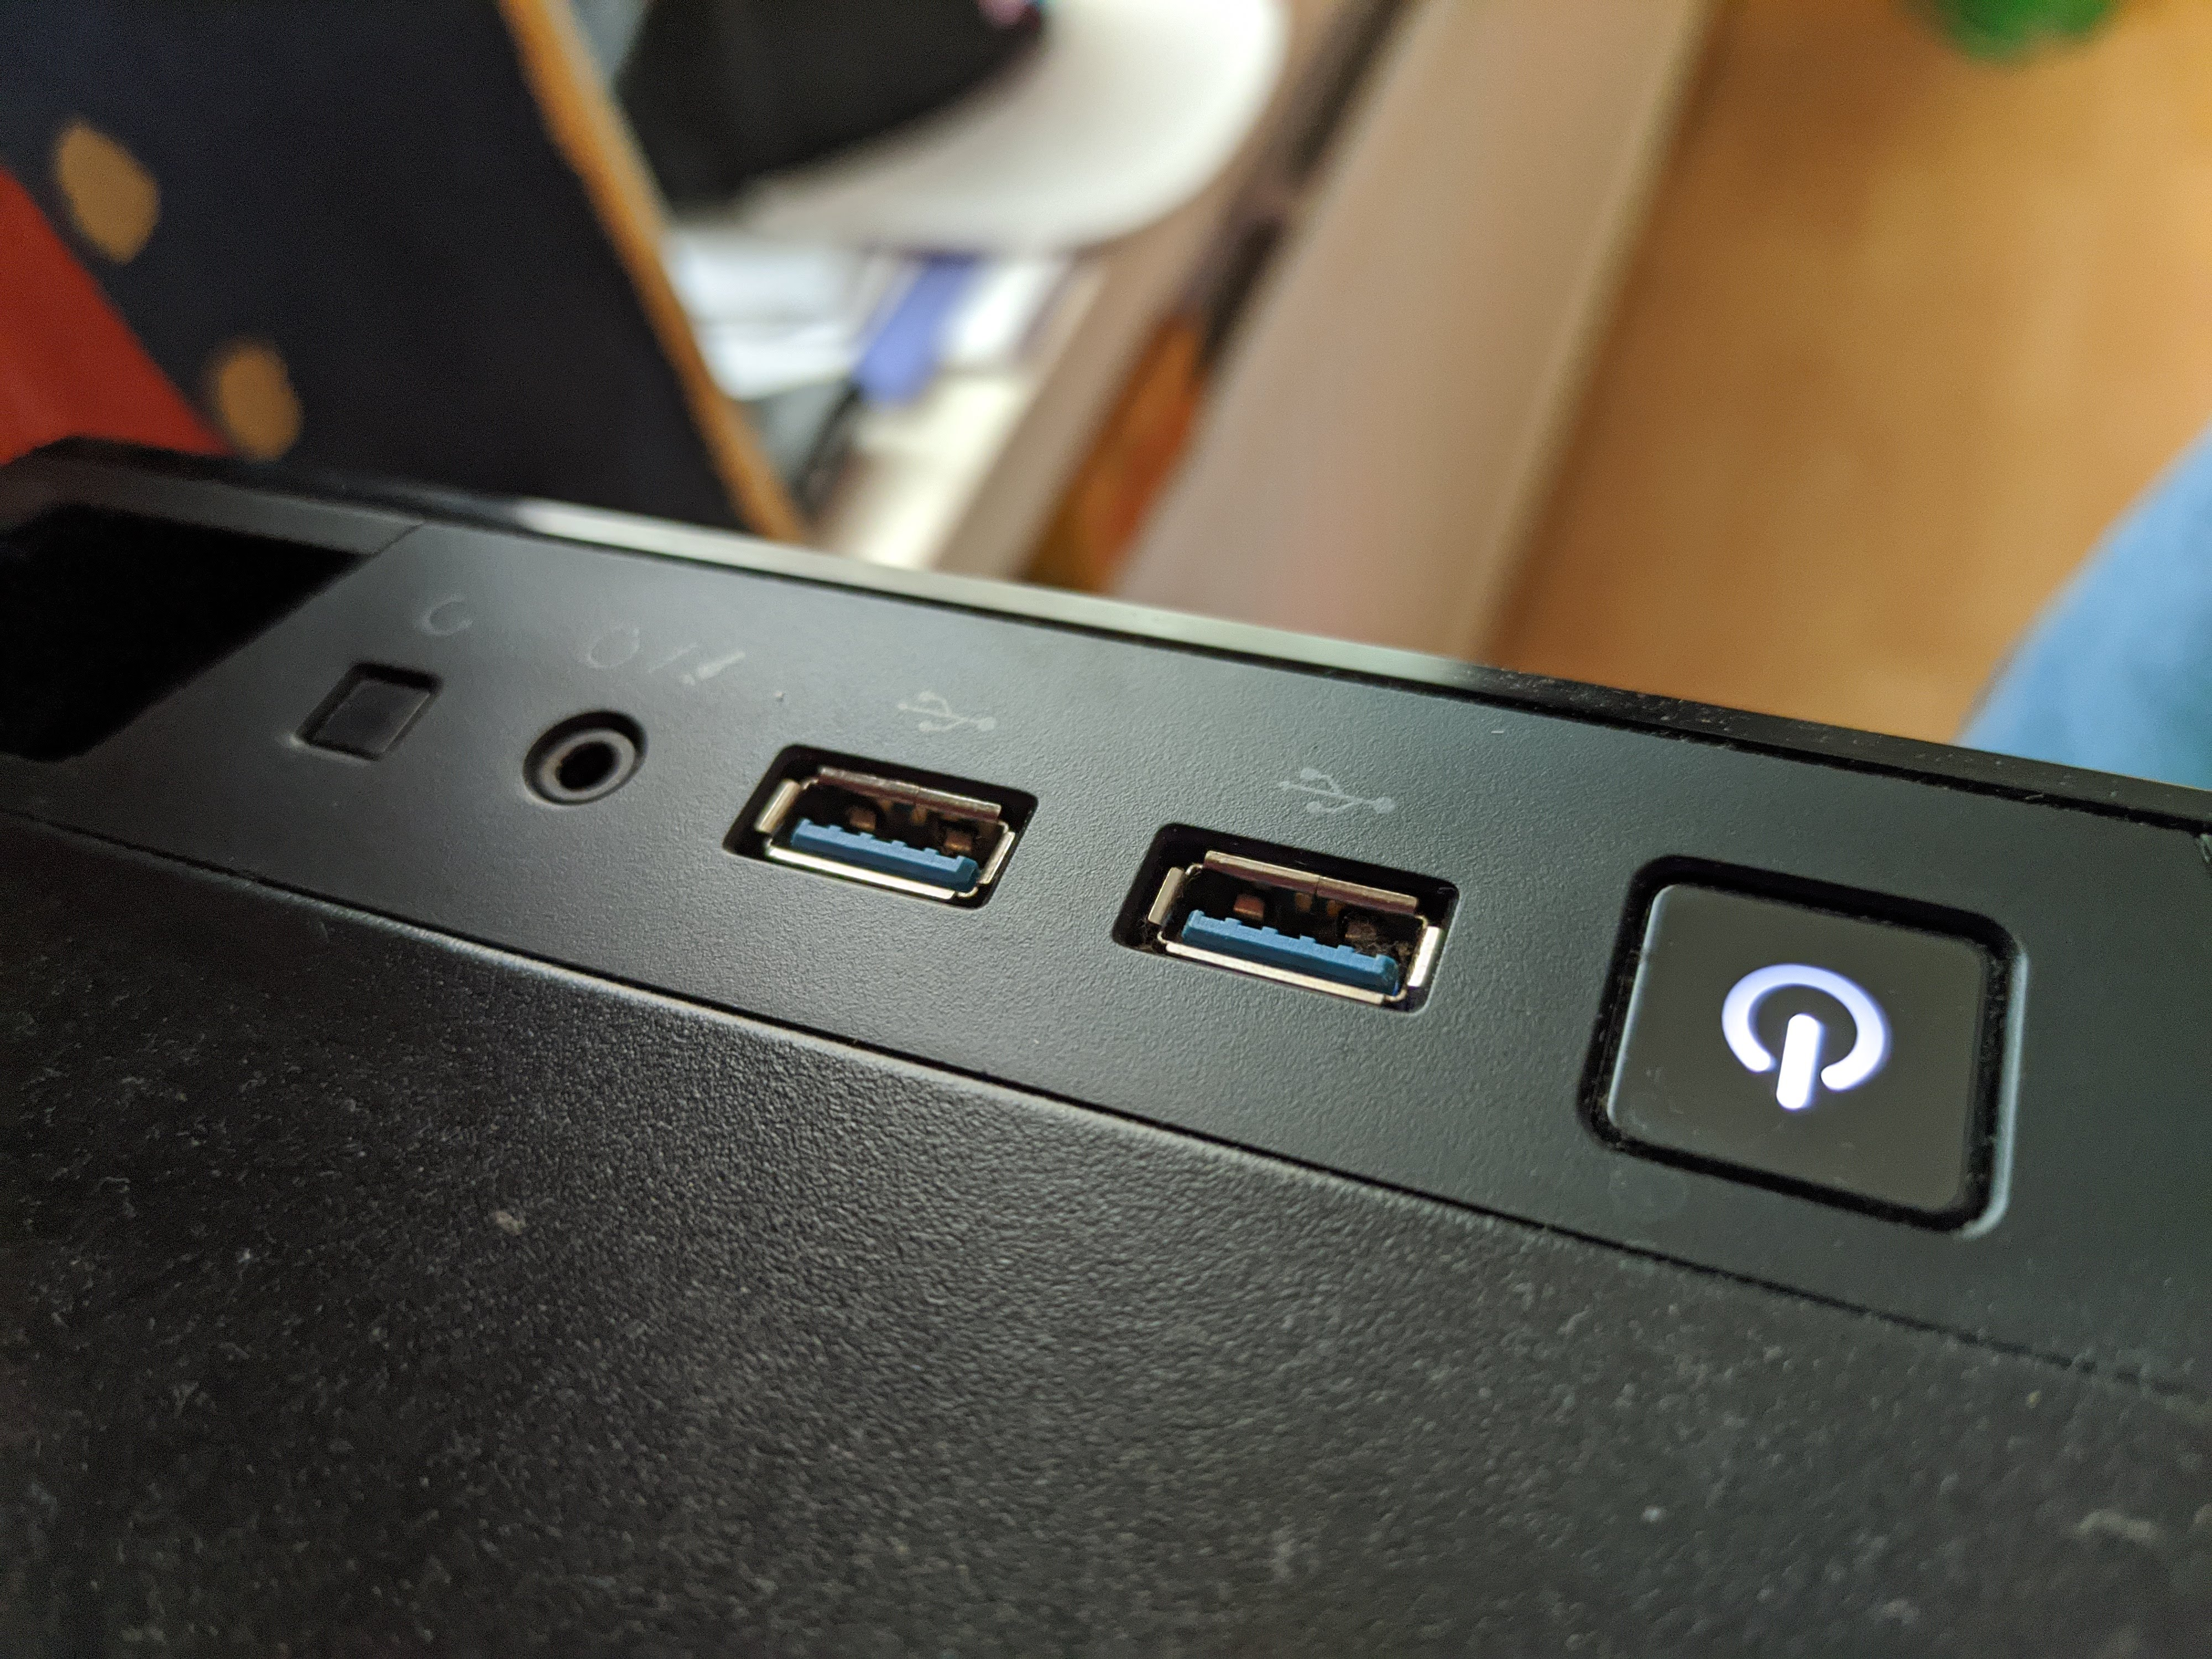usbport_in: (1155, 840, 1428, 1016), (756, 742, 1015, 915)
